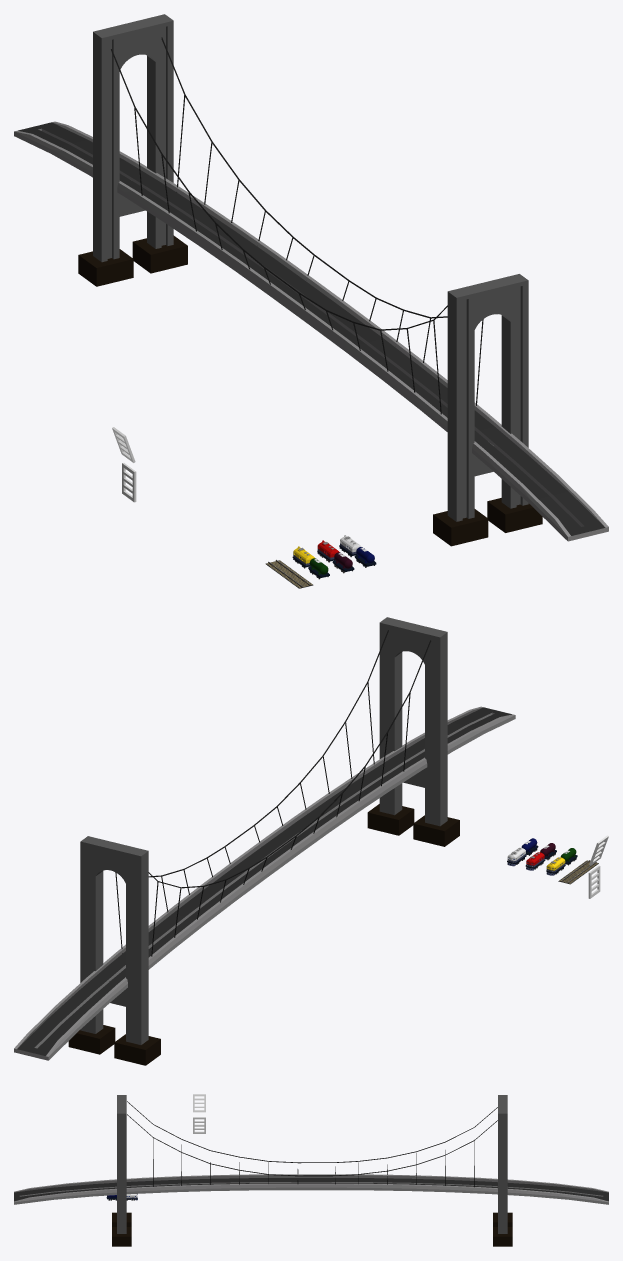
Rendered from мост поезда .fbx.
3 views of the same model, one above another, from view 1: azimuth 30°, elevation 25°; view 2: azimuth 150°, elevation 25°; view 3: azimuth 270°, elevation 25° (orthographic). The views are drawn at different scales.
Parts seen in each view (by area): view 1: Cube.001, Cube.003, Cube, Cube.002, Cube.006, Circle.012; view 2: Cube.001, Cube, Cube.003, Cube.002, Cube.006, Circle.012; view 3: Cube.001, Cube.003, Circle.012, Cube, Cube.002, Cube.006.
Boxes of the visible parts, x1,y1,x2,y2 form: Cube.001: (14, 121, 608, 541); Cube.003: (18, 122, 605, 535); Cube: (447, 274, 528, 521); Cube.002: (93, 14, 173, 262); Cube.006: (78, 235, 542, 546); Circle.012: (111, 37, 483, 414); Cube.001: (14, 706, 515, 1060); Cube: (379, 617, 447, 826); Cube.003: (17, 707, 511, 1055); Cube.002: (80, 836, 148, 1044); Cube.006: (68, 804, 459, 1065); Circle.012: (115, 630, 430, 956); Cube.001: (14, 1174, 608, 1204); Cube.003: (14, 1178, 608, 1201); Circle.012: (127, 1101, 497, 1187); Cube: (117, 1095, 126, 1233); Cube.002: (498, 1095, 507, 1233); Cube.006: (112, 1212, 512, 1246).
Bounding box in the file's own units: 2493 × 1684 × 6966.
